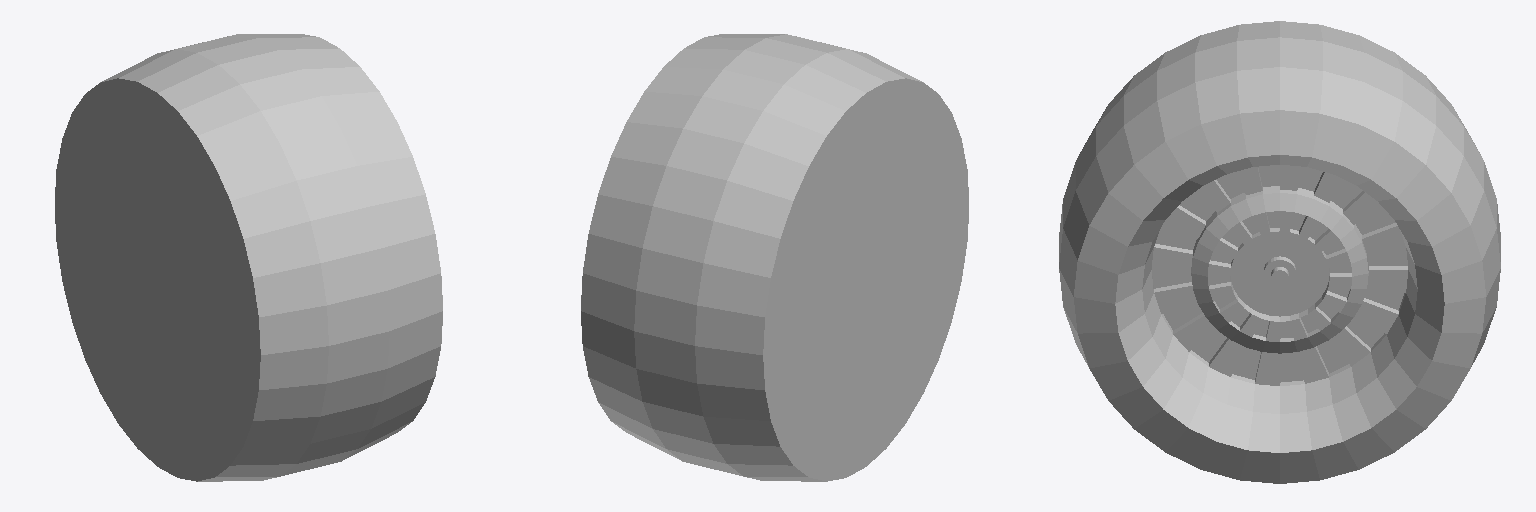
The model's file is WheelOffroad_01-alt.obj.
The picture shows the model from 3 angles: view 1: azimuth 30°, elevation 25°; view 2: azimuth 150°, elevation 25°; view 3: azimuth 270°, elevation 25°; orthographic projection.
Parts seen in each view (by area): view 1: f_wheel.001; view 2: f_wheel.001; view 3: f_wheel.001.
Boxes of the visible parts, box(x1,y1,x2,y2) form: f_wheel.001: box(55, 34, 442, 481); f_wheel.001: box(581, 34, 968, 481); f_wheel.001: box(1059, 21, 1500, 483).
Bounding box in the file's own units: 0.5821 × 1.13 × 1.13.